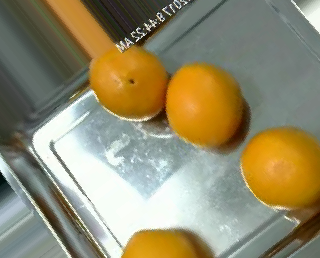Orange: (165, 60, 245, 149), (238, 126, 319, 211)
